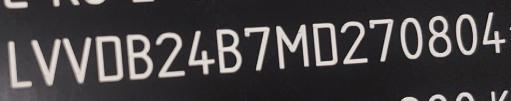letter: (28, 38, 62, 89), (274, 22, 310, 69), (61, 35, 93, 84), (155, 30, 186, 79), (94, 34, 125, 83), (124, 33, 156, 80), (339, 20, 371, 67), (4, 38, 33, 89), (187, 28, 217, 77), (215, 26, 245, 73), (368, 17, 396, 66), (310, 21, 338, 68), (243, 26, 272, 71), (479, 9, 507, 54), (398, 15, 424, 62), (428, 15, 453, 58), (455, 13, 478, 56)
